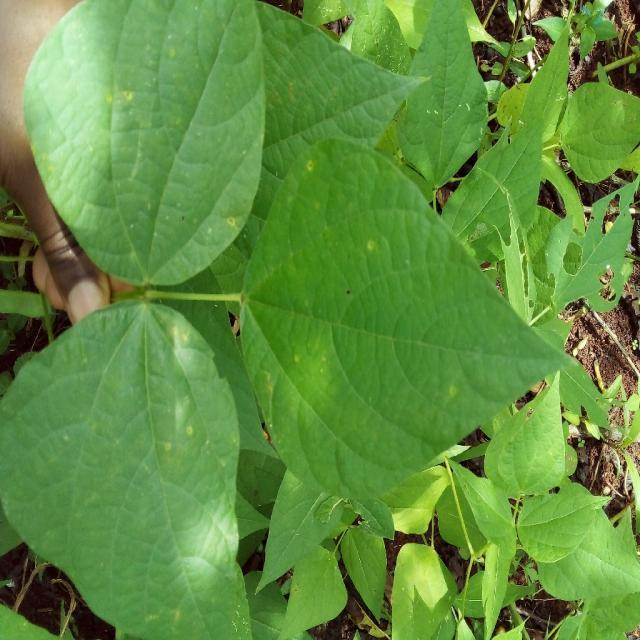hawar: (154, 406, 229, 504), (347, 212, 419, 287), (424, 365, 490, 435), (94, 62, 146, 128), (290, 144, 329, 188)
